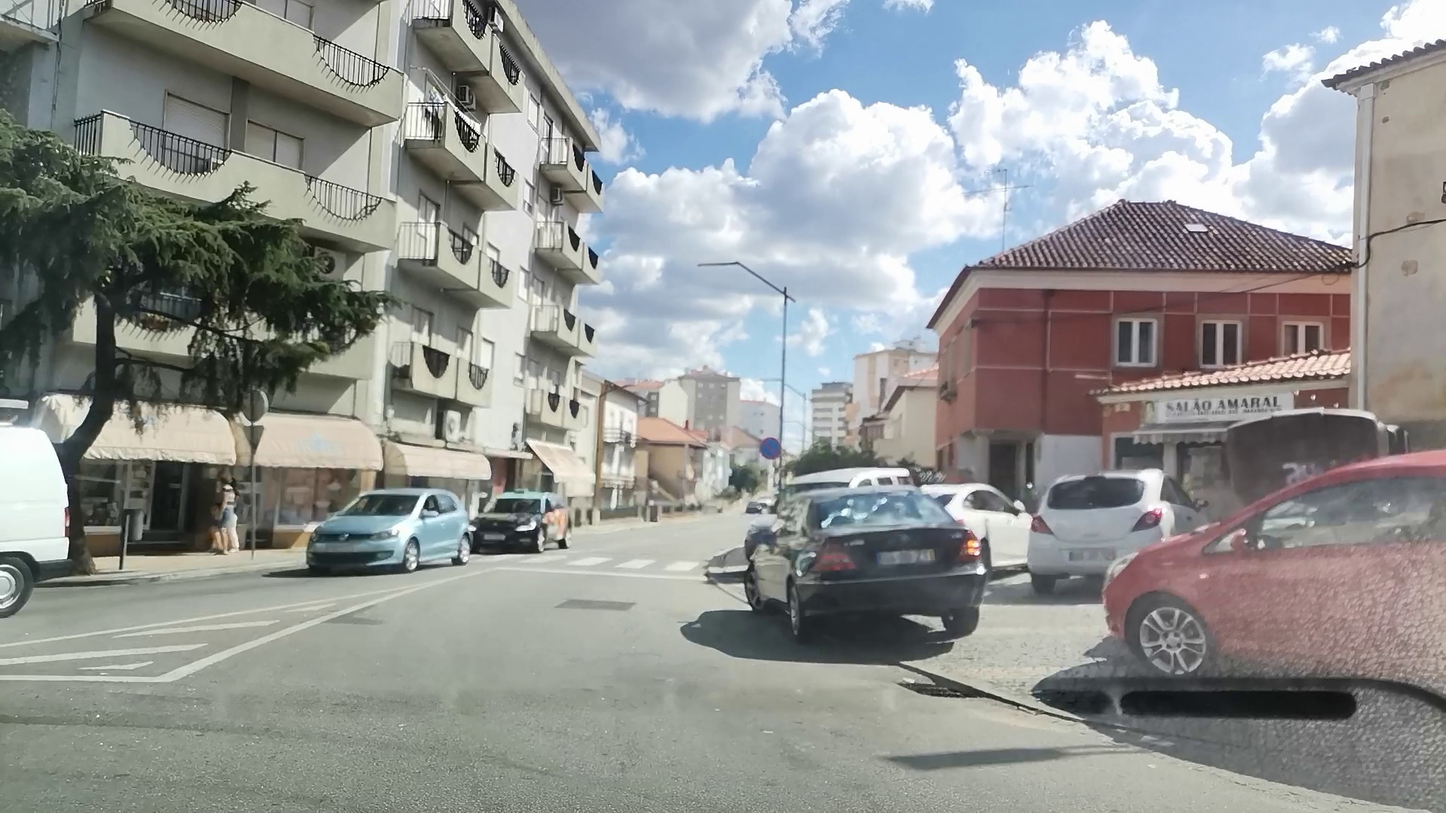Stairs: (521, 548, 705, 577)
